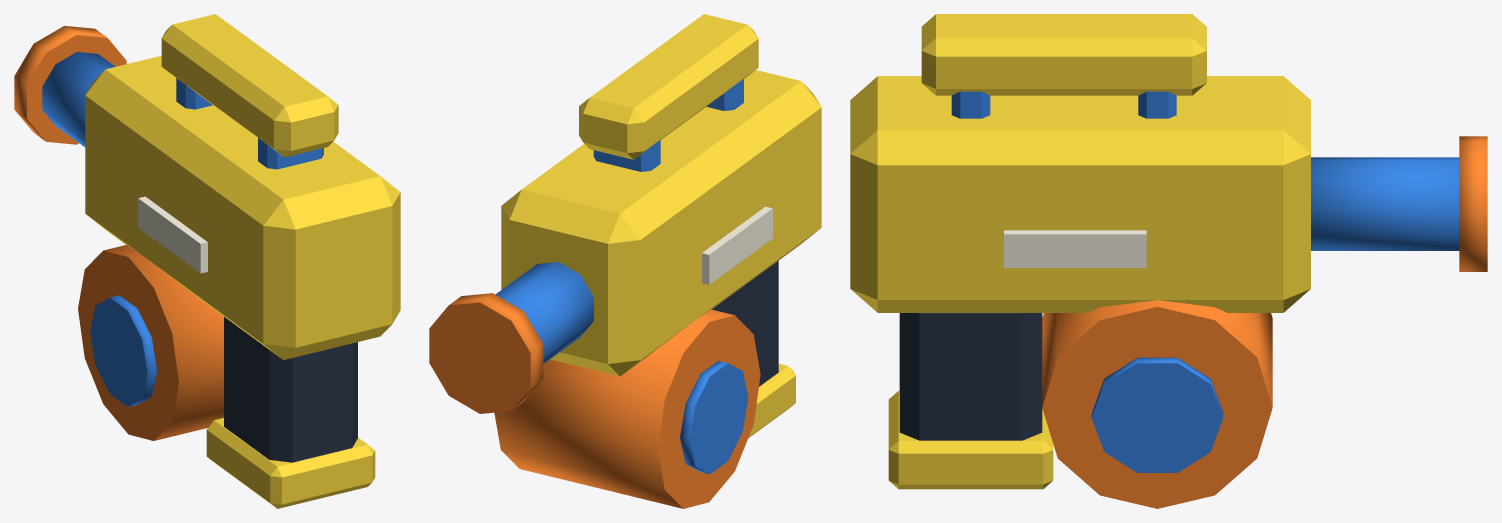
File: fps_w_rapid.glb
The picture shows the model from 3 angles, left to right: view 1: azimuth 30°, elevation 25°; view 2: azimuth 150°, elevation 25°; view 3: azimuth 270°, elevation 25°; orthographic projection. The views are drawn at different scales.
Visible parts, largest first — view 1: detail_Lemon, Foam drum, grip, detail_Blueberry, muzzle_tip, detail_Vanilla plastic; view 2: detail_Lemon, Foam drum, detail_Blueberry, muzzle_tip, grip, detail_Vanilla plastic; view 3: detail_Lemon, Foam drum, detail_Blueberry, grip, detail_Vanilla plastic, muzzle_tip.
Part boxes in pixels (x1,y1,x2,y2): detail_Lemon: (85, 14, 400, 508); Foam drum: (78, 245, 223, 440); grip: (224, 317, 357, 462); detail_Blueberry: (42, 52, 323, 406); muzzle_tip: (14, 26, 126, 144); detail_Vanilla plastic: (138, 196, 207, 273); detail_Lemon: (501, 14, 821, 437); Foam drum: (494, 309, 760, 508); detail_Blueberry: (495, 79, 748, 474); muzzle_tip: (429, 293, 543, 413); grip: (712, 261, 778, 386); detail_Vanilla plastic: (702, 206, 772, 284); detail_Lemon: (850, 14, 1310, 489); Foam drum: (1042, 300, 1272, 508); detail_Blueberry: (951, 91, 1459, 472); grip: (899, 313, 1042, 440); detail_Vanilla plastic: (1004, 230, 1146, 267); muzzle_tip: (1459, 136, 1487, 271).
Bounding box in the file's own units: 0.224 × 0.455 × 0.6.
